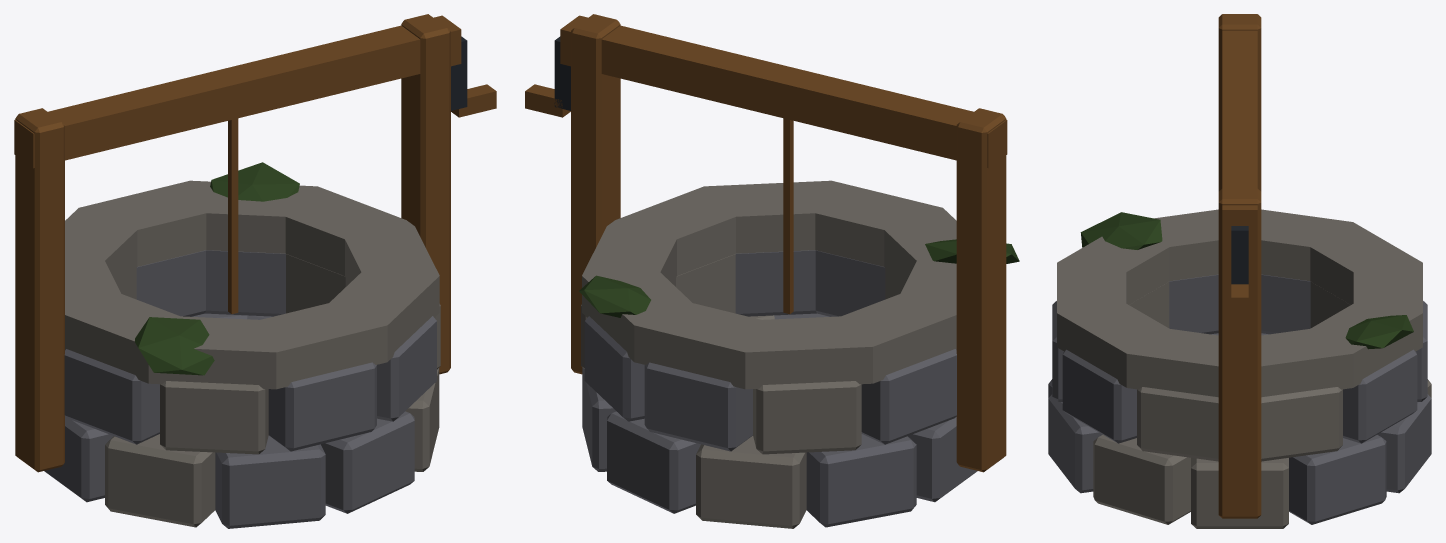
File: Abandoned_Stone_Well.glb
3 renders of one model, left to right at view 1: azimuth 30°, elevation 25°; view 2: azimuth 150°, elevation 25°; view 3: azimuth 270°, elevation 25°, orthographic. The views are drawn at different scales.
Visible parts, largest first — view 1: Abandoned_Stone_Well; view 2: Abandoned_Stone_Well; view 3: Abandoned_Stone_Well.
Boxes of the visible parts, x1=… form: Abandoned_Stone_Well: x1=14, y1=14, x2=496, y2=528; Abandoned_Stone_Well: x1=525, y1=14, x2=1019, y2=528; Abandoned_Stone_Well: x1=1048, y1=14, x2=1431, y2=528.
Size of the model in its own units: 1.99 by 1.51 by 1.52.
